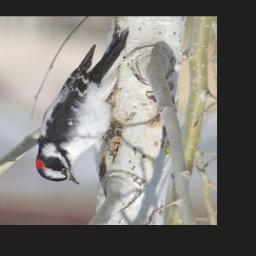Woodpecker: (37, 26, 132, 187)
